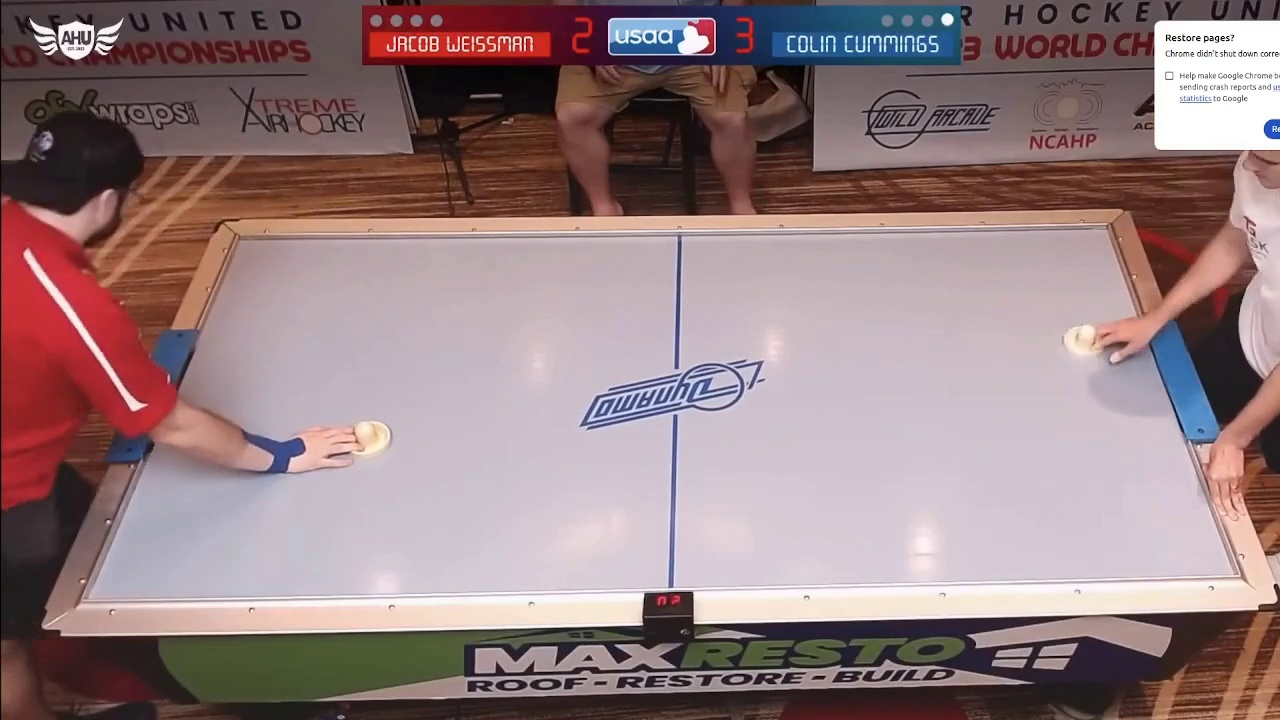player: (342, 417, 396, 459), (1062, 321, 1109, 356)
table: (111, 215, 1255, 623)
